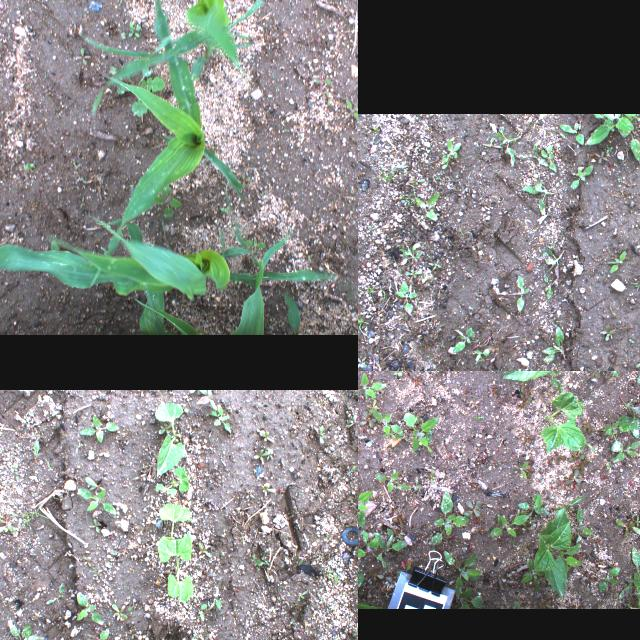crop: (0, 220, 336, 332), (103, 0, 246, 222), (83, 0, 262, 110), (521, 504, 587, 596), (229, 234, 289, 334), (540, 392, 588, 452), (157, 532, 193, 602), (134, 300, 202, 334), (155, 401, 185, 477), (138, 286, 168, 334), (158, 502, 190, 544), (155, 466, 189, 494)
weed: (586, 113, 640, 161), (430, 493, 472, 545), (601, 386, 640, 440), (442, 551, 484, 599), (358, 533, 414, 568), (130, 75, 166, 117), (407, 409, 438, 455), (619, 540, 640, 607), (494, 125, 524, 167), (523, 179, 557, 215), (76, 486, 118, 514), (370, 408, 406, 438), (596, 564, 626, 600), (81, 414, 119, 442), (489, 511, 531, 535), (541, 326, 567, 362), (610, 434, 640, 465), (358, 564, 379, 607), (372, 470, 412, 492), (615, 498, 640, 533), (358, 371, 386, 401), (76, 592, 102, 624), (516, 492, 548, 518), (9, 617, 45, 640), (394, 280, 418, 314), (514, 141, 548, 165), (506, 276, 530, 310), (14, 506, 51, 528), (158, 188, 184, 216), (358, 475, 372, 526), (559, 120, 585, 146), (416, 192, 440, 220), (458, 585, 488, 607), (544, 248, 564, 278), (210, 403, 230, 433), (462, 498, 486, 522), (570, 164, 592, 188), (454, 326, 474, 352), (401, 183, 419, 211), (358, 283, 385, 301), (442, 138, 462, 162), (607, 250, 627, 274), (613, 113, 633, 137), (218, 190, 238, 213), (46, 582, 66, 604), (196, 390, 218, 410), (398, 242, 422, 260), (74, 49, 94, 70), (358, 313, 374, 338), (542, 144, 556, 172), (610, 113, 634, 129), (543, 273, 557, 299), (85, 475, 107, 491), (0, 512, 17, 531), (378, 165, 398, 181), (594, 114, 614, 130), (346, 96, 358, 122), (87, 627, 110, 640), (598, 323, 614, 341), (472, 347, 491, 361), (30, 434, 42, 456), (112, 604, 128, 620), (128, 18, 142, 36), (252, 554, 266, 570), (244, 239, 266, 249), (253, 450, 271, 462), (311, 76, 334, 85), (158, 422, 175, 434), (482, 136, 502, 146), (198, 542, 212, 556), (262, 482, 276, 496), (404, 268, 422, 278), (345, 413, 358, 426), (595, 150, 609, 162), (316, 426, 326, 442), (198, 602, 206, 622), (260, 431, 274, 442), (89, 519, 101, 531), (127, 628, 139, 640), (24, 160, 38, 170), (358, 355, 368, 368), (409, 177, 425, 185), (364, 224, 380, 232), (298, 553, 308, 565), (428, 262, 442, 270), (298, 590, 308, 600), (442, 156, 450, 168), (348, 465, 357, 475), (227, 403, 236, 412), (620, 321, 628, 331), (83, 555, 91, 565), (10, 462, 18, 472), (214, 598, 222, 608), (608, 329, 616, 338), (631, 282, 640, 290), (189, 390, 207, 394), (128, 602, 134, 612), (327, 569, 333, 579), (372, 132, 376, 144), (435, 174, 443, 180), (606, 146, 614, 152), (636, 356, 640, 368), (628, 338, 636, 344), (617, 176, 623, 182), (499, 296, 508, 300), (373, 126, 381, 130), (202, 635, 207, 640), (505, 312, 507, 316)
